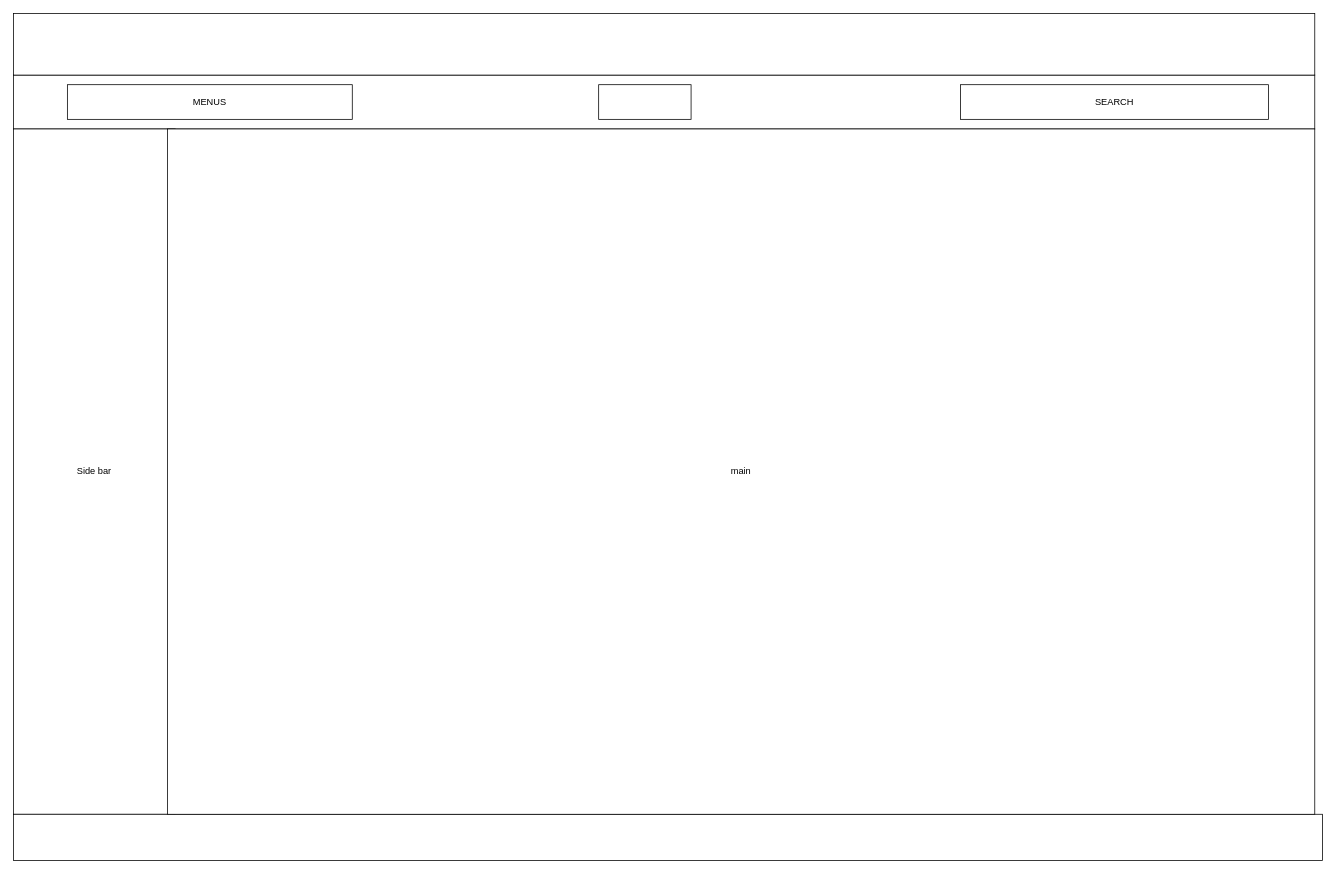
The diagram is 1336 pixels wide and 874 high, and some of its shapes have lost their labels. The centre of each missing label's shape, as x and y in pixels:
Bannder: point 664,44
footer: point 667,837
LOGO: point 644,101
